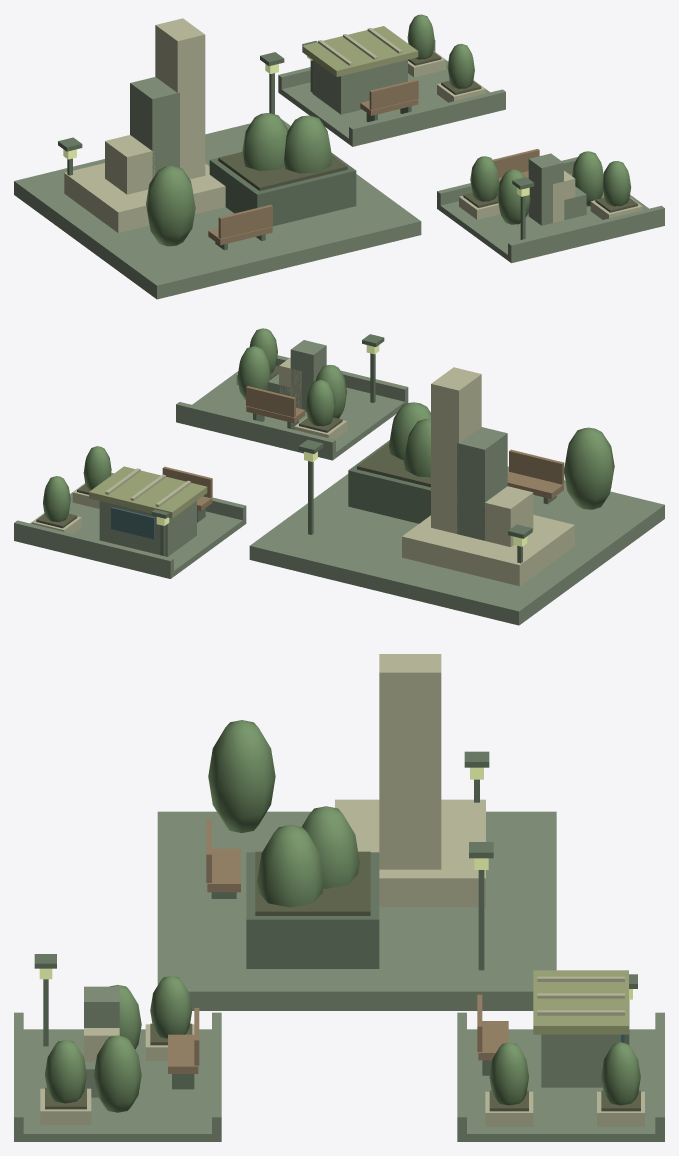
File: ancient.glb
3 renders of one model, top to bottom at view 1: azimuth 30°, elevation 25°; view 2: azimuth 150°, elevation 25°; view 3: azimuth 270°, elevation 25°, orthographic. The views are drawn at different scales.
Visible parts, largest first — view 1: ARENA stone (×15), ARENA paving (×3), ARENA leaves (×9), ARENA wood (×4), ARENA canopy, ARENA wall, ARENA soil; view 2: ARENA stone (×12), ARENA paving (×3), ARENA leaves (×9), ARENA wood (×4), ARENA canopy, ARENA wall, ARENA soil, ARENA window; view 3: ARENA paving (×3), ARENA stone (×12), ARENA leaves (×9), ARENA canopy, ARENA wall, ARENA wood (×3), ARENA soil, ARENA metal.
Boxes of the visible parts, left/top/right/bottom form: ARENA stone (×15): left=64, top=18, right=664, bottom=257; ARENA paving (×3): left=14, top=52, right=664, bottom=299; ARENA leaves (×9): left=146, top=14, right=631, bottom=246; ARENA wood (×4): left=208, top=79, right=539, bottom=245; ARENA canopy: left=302, top=26, right=418, bottom=76; ARENA wall: left=312, top=60, right=407, bottom=114; ARENA soil: left=218, top=152, right=347, bottom=190; ARENA stone (×12): left=14, top=340, right=574, bottom=586; ARENA paving (×3): left=14, top=371, right=664, bottom=625; ARENA leaves (×9): left=43, top=328, right=614, bottom=521; ARENA wood (×4): left=162, top=386, right=564, bottom=499; ARENA canopy: left=89, top=466, right=207, bottom=518; ARENA wall: left=99, top=501, right=196, bottom=556; ARENA soil: left=357, top=443, right=430, bottom=487; ARENA window: left=111, top=507, right=154, bottom=539; ARENA paving (×3): left=14, top=811, right=664, bottom=1141; ARENA stone (×12): left=14, top=654, right=664, bottom=1137; ARENA leaves (×9): left=45, top=720, right=640, bottom=1112; ARENA canopy: left=533, top=970, right=628, bottom=1034; ARENA wall: left=541, top=1034, right=620, bottom=1087; ARENA wood (×3): left=168, top=848, right=508, bottom=1073; ARENA soil: left=255, top=851, right=370, bottom=915; ARENA metal: left=478, top=870, right=484, bottom=970.
Bounding box in the file's own units: 8.3 × 3.05 × 7.34.
